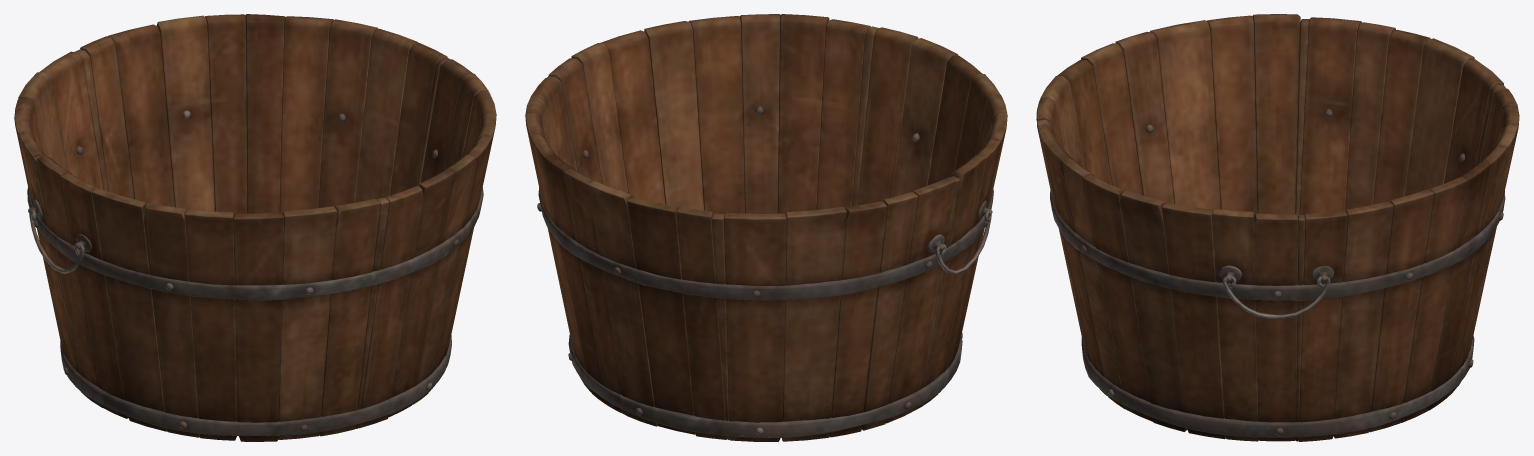
File: wooden_bucket_02.glb
The picture shows the model from 3 angles, left to right: view 1: azimuth 30°, elevation 25°; view 2: azimuth 150°, elevation 25°; view 3: azimuth 270°, elevation 25°; orthographic projection.
Parts seen in each view (by area): view 1: wooden_bucket_02; view 2: wooden_bucket_02; view 3: wooden_bucket_02.
Boxes of the visible parts, x1,y1,x2,y2 form: wooden_bucket_02: [14, 14, 496, 441]; wooden_bucket_02: [525, 14, 1007, 441]; wooden_bucket_02: [1036, 14, 1519, 441].
Size of the model in its own units: 0.6153 by 0.3504 by 0.6163.
Materials: 1 (1 with a texture image).
